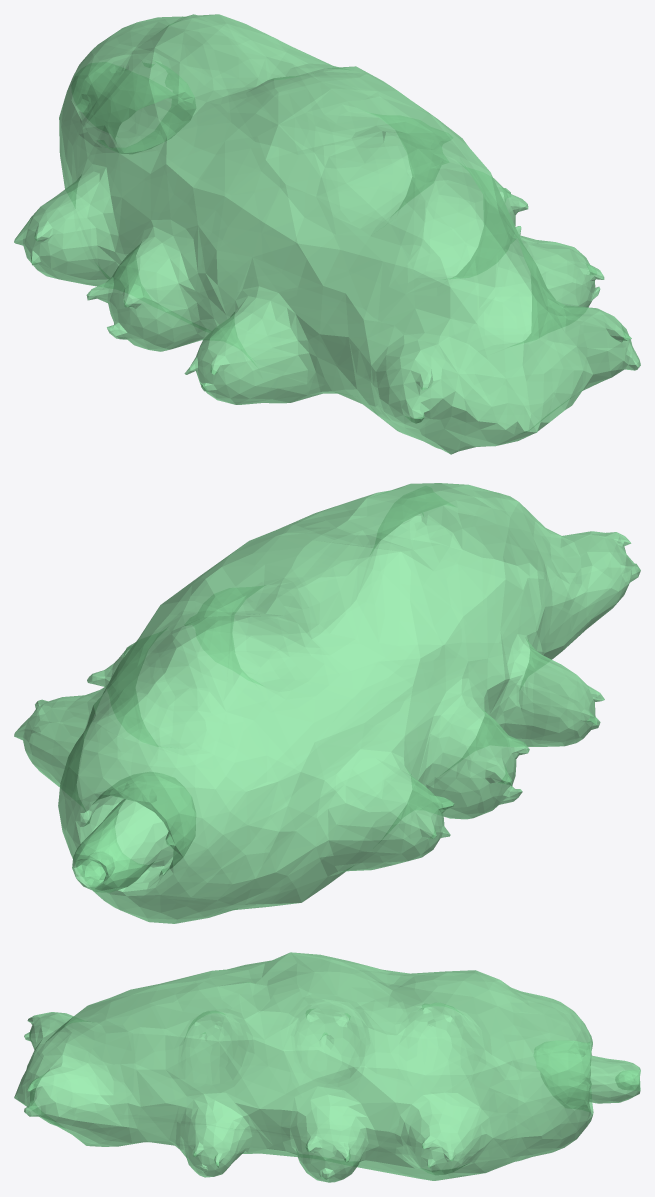
Rendered from tardigradomodelo.fbx.
The picture shows the model from 3 angles, top to bottom: view 1: azimuth 30°, elevation 25°; view 2: azimuth 150°, elevation 25°; view 3: azimuth 270°, elevation 25°; orthographic projection. The views are drawn at different scales.
Visible parts, largest first — view 1: Icosphere; view 2: Icosphere; view 3: Icosphere.
Part boxes in pixels (x1,y1,x2,y2): Icosphere: (14, 14, 640, 454); Icosphere: (14, 483, 640, 923); Icosphere: (14, 952, 640, 1182).
Size of the model in its own units: 324 by 200 by 593.
